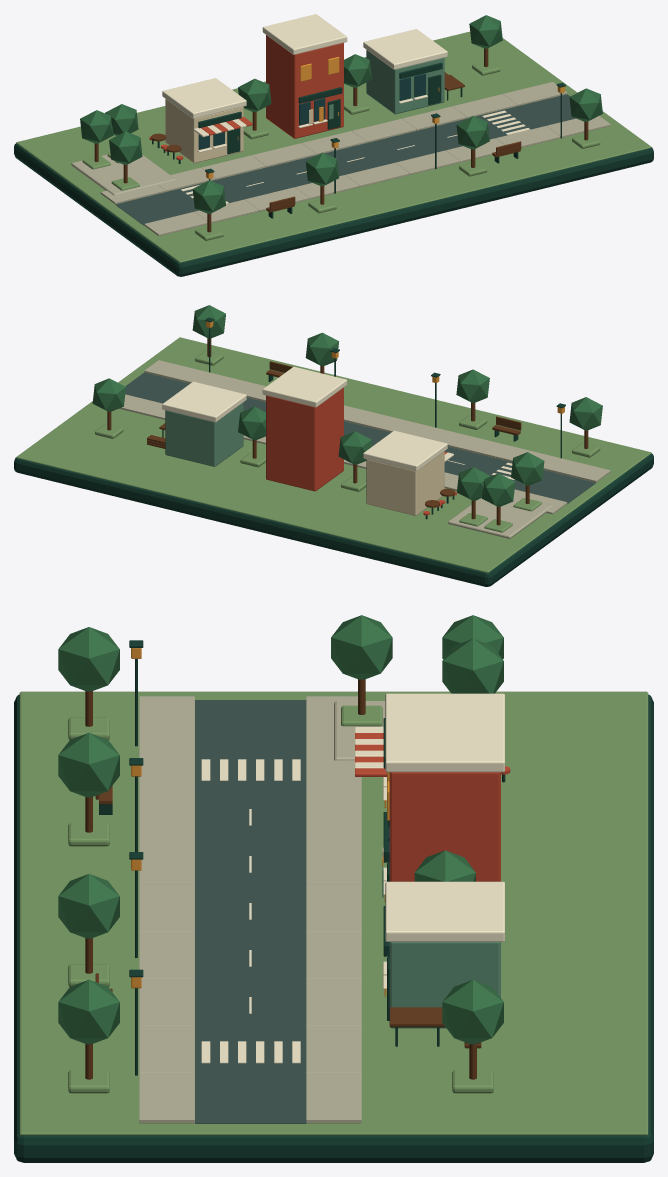
The model's file is foundry_lane.glb.
3 views of the same model, one above another, from view 1: azimuth 30°, elevation 25°; view 2: azimuth 150°, elevation 25°; view 3: azimuth 270°, elevation 25° (orthographic). The views are drawn at different scales.
Parts seen in each view (by area): view 1: District ground, Diorama plinth, Storefront-col.001, Storefront-col.002, Storefront-col, Flat parapet roof.001, Flat parapet roof, Flat parapet roof.002, Pocket park, Road_Straight_4m, Road_Straight_4m.002, Road_Straight_4m.005 (+35 smaller); view 2: District ground, Diorama plinth, Storefront-col.001, Storefront-col, Storefront-col.002, Flat parapet roof.001, Flat parapet roof.002, Flat parapet roof, Pocket park, Road_Straight_4m, Road_Straight_4m.008, Faceted canopy.005 (+21 smaller); view 3: District ground, Diorama plinth, Storefront-col.001, Flat parapet roof.001, Flat parapet roof.002, Storefront-col.002, Road_Straight_4m.008, Road_Straight_4m.003, Road_Straight_4m.004, Road_Straight_4m.005, Road_Straight_4m.006, Road_Straight_4m (+37 smaller).
Part boxes in pixels (left/top/right/bottom): District ground: left=16, top=31, right=651, bottom=262; Diorama plinth: left=14, top=143, right=653, bottom=276; Storefront-col.001: left=266, top=35, right=343, bottom=138; Storefront-col.002: left=366, top=50, right=444, bottom=114; Storefront-col: left=165, top=99, right=243, bottom=163; Flat parapet roof.001: left=262, top=14, right=347, bottom=54; Flat parapet roof: left=162, top=78, right=246, bottom=118; Flat parapet roof.002: left=363, top=29, right=447, bottom=69; Pocket park: left=71, top=154, right=175, bottom=195; Road_Straight_4m: left=115, top=192, right=191, bottom=225; Road_Straight_4m.002: left=216, top=168, right=292, bottom=199; Road_Straight_4m.005: left=366, top=131, right=443, bottom=162; District ground: left=16, top=337, right=651, bottom=572; Diorama plinth: left=14, top=453, right=653, bottom=586; Storefront-col.001: left=266, top=387, right=343, bottom=491; Storefront-col: left=366, top=451, right=444, bottom=515; Storefront-col.002: left=165, top=402, right=243, bottom=466; Flat parapet roof.001: left=262, top=366, right=347, bottom=407; Flat parapet roof.002: left=162, top=381, right=246, bottom=422; Flat parapet roof: left=363, top=430, right=447, bottom=471; Pocket park: left=448, top=495, right=552, bottom=538; Road_Straight_4m: left=519, top=470, right=595, bottom=504; Road_Straight_4m.008: left=125, top=372, right=189, bottom=403; Faceted canopy.005: left=92, top=378, right=125, bottom=411; District ground: left=19, top=691, right=648, bottom=1135; Diorama plinth: left=14, top=694, right=653, bottom=1162; Storefront-col.001: left=389, top=772, right=500, bottom=881; Flat parapet roof.001: left=385, top=712, right=504, bottom=772; Flat parapet roof.002: left=385, top=881, right=504, bottom=941; Storefront-col.002: left=389, top=942, right=500, bottom=1028; Road_Straight_4m.008: left=195, top=1076, right=306, bottom=1123; Road_Straight_4m.003: left=195, top=841, right=306, bottom=888; Road_Straight_4m.004: left=195, top=888, right=306, bottom=935; Road_Straight_4m.005: left=195, top=935, right=306, bottom=982; Road_Straight_4m.006: left=195, top=982, right=306, bottom=1029; Road_Straight_4m: left=195, top=700, right=306, bottom=746.
Bounding box in the file's own units: 38 × 8.19 × 23.
